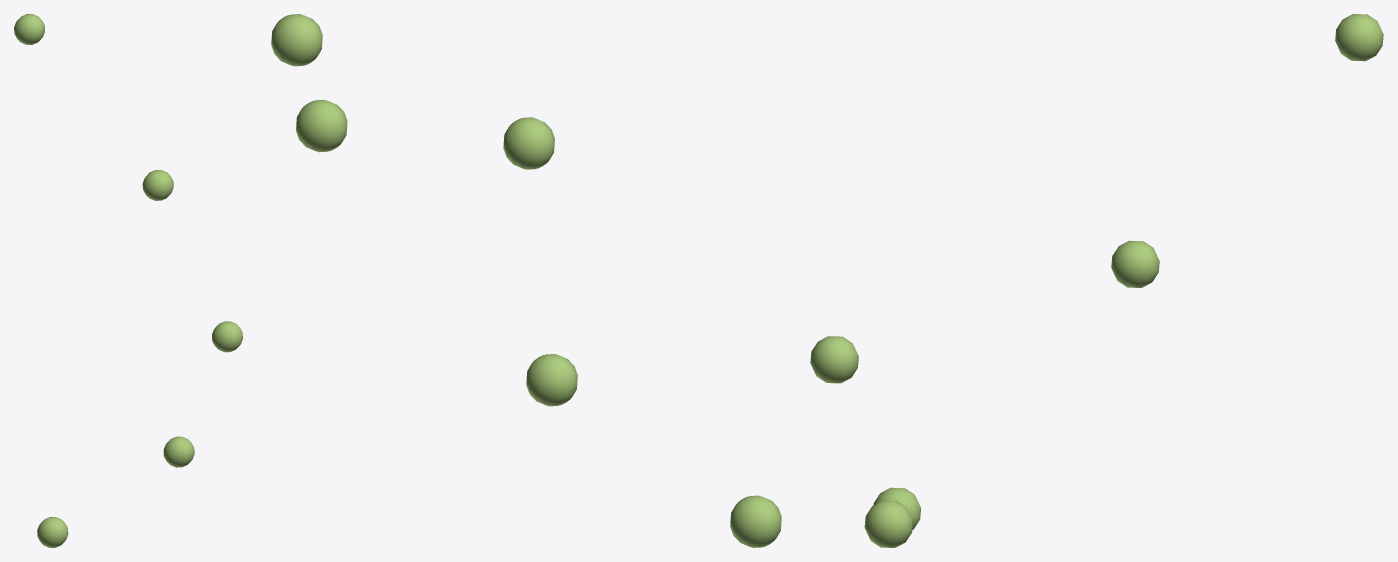
File: right-gastric-nodes.glb
3 renders of one model, left to right at view 1: azimuth 30°, elevation 25°; view 2: azimuth 150°, elevation 25°; view 3: azimuth 270°, elevation 25°, orthographic. The views are drawn at different scales.
Visible parts, largest first — view 1: Right gastric nodes; view 2: Right gastric nodes; view 3: Right gastric nodes.
Boxes of the visible parts, <box> form: Right gastric nodes: <box>14,14,242,547</box>; Right gastric nodes: <box>271,14,781,547</box>; Right gastric nodes: <box>810,14,1383,547</box>.
Size of the model in its own units: 0.0199 by 0.0357 by 0.0302.
